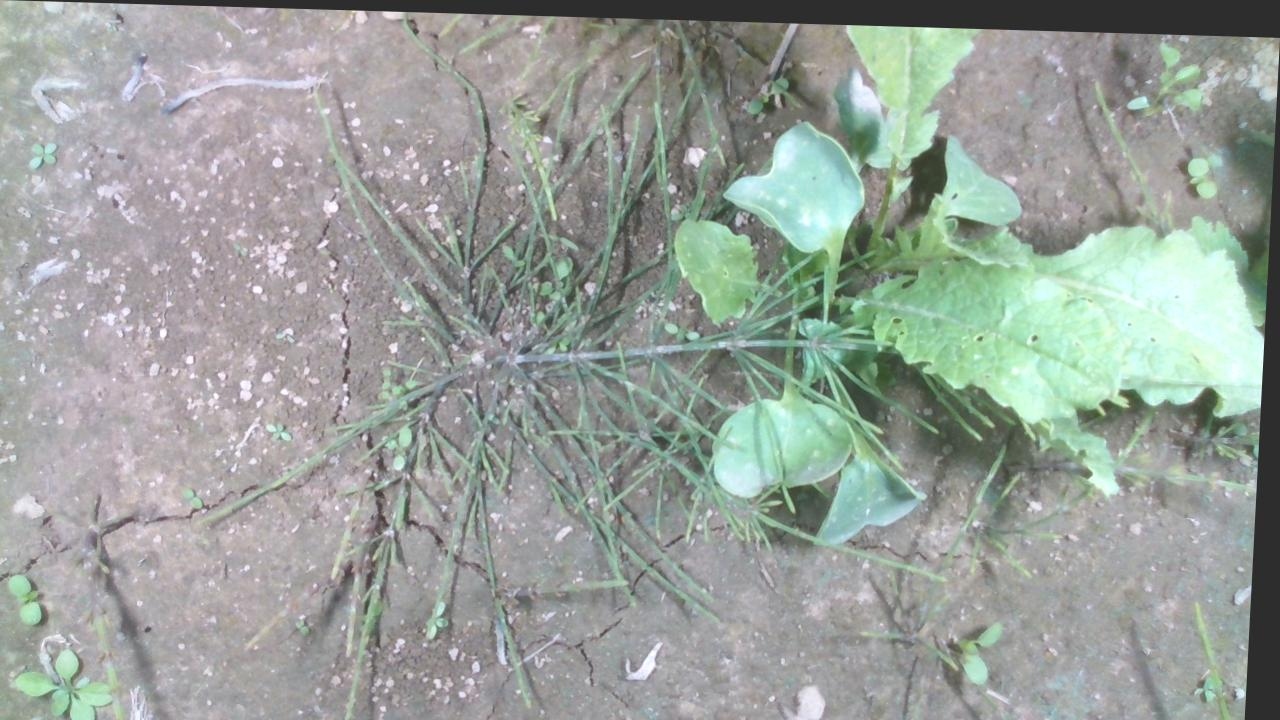weed: (10, 572, 50, 626), (267, 417, 298, 441), (186, 484, 208, 507)
